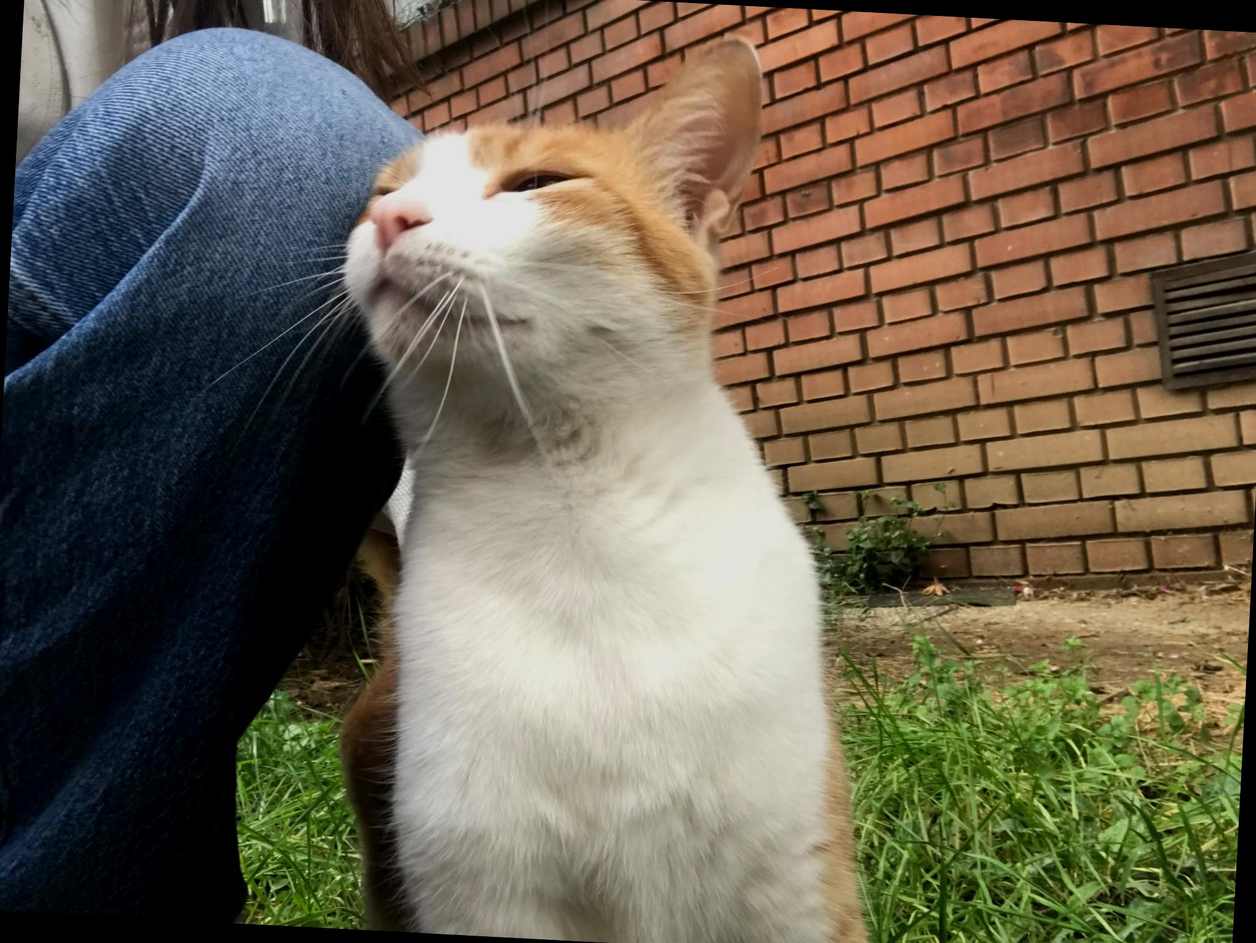macka: (304, 14, 919, 943)
